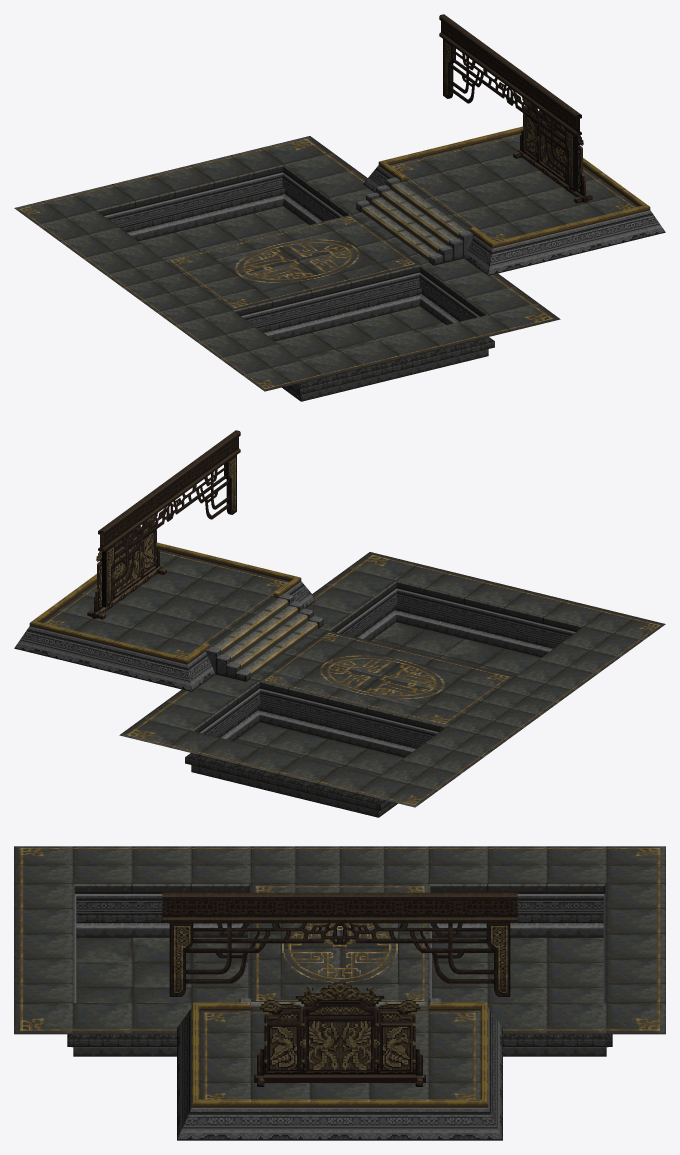
Rendered from EnvMdrMD_Desert_Castle_A_Pedestal_A.FBX.
The picture shows the model from 3 angles, top to bottom: view 1: azimuth 30°, elevation 25°; view 2: azimuth 150°, elevation 25°; view 3: azimuth 270°, elevation 25°; orthographic projection. The views are drawn at different scales.
Parts seen in each view (by area): view 1: EnvMdrMD_Desert_Castle_A_Pedestal_A; view 2: EnvMdrMD_Desert_Castle_A_Pedestal_A; view 3: EnvMdrMD_Desert_Castle_A_Pedestal_A.
Boxes of the visible parts, x1,y1,x2,y2 form: EnvMdrMD_Desert_Castle_A_Pedestal_A: [14, 14, 665, 401]; EnvMdrMD_Desert_Castle_A_Pedestal_A: [14, 430, 665, 817]; EnvMdrMD_Desert_Castle_A_Pedestal_A: [14, 846, 665, 1140].
Size of the model in its own units: 2350 by 900 by 2200.
1 material, 1 textured.
